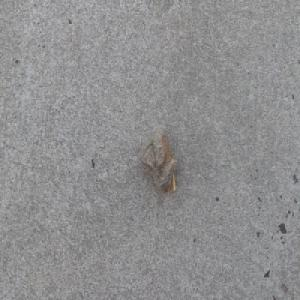Rock: (137, 128, 176, 197)
